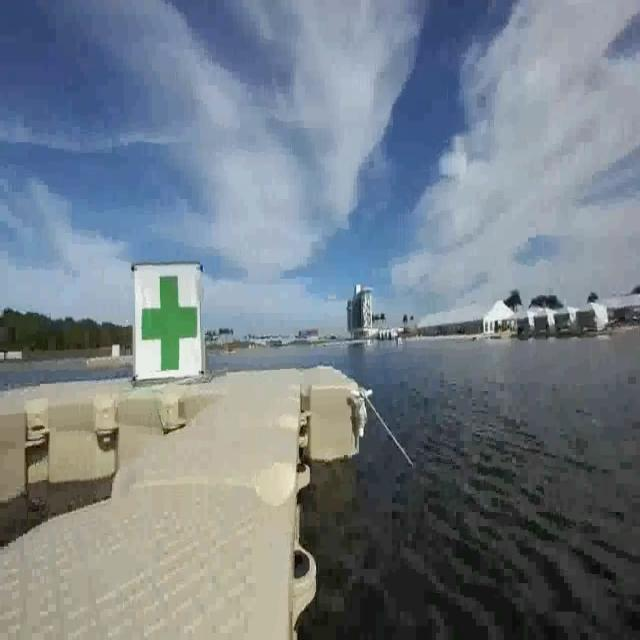blue-cross: (130, 263, 207, 386)
